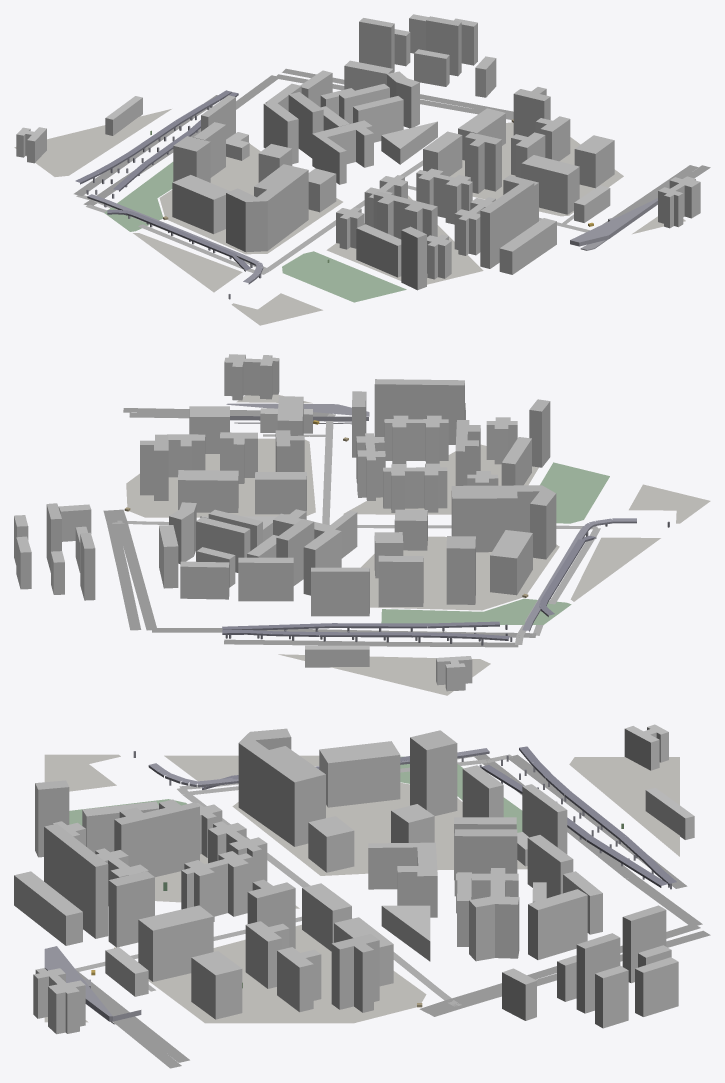
3 views of the same model, one above another, from view 1: azimuth 30°, elevation 25°; view 2: azimuth 150°, elevation 25°; view 3: azimuth 270°, elevation 25° (orthographic). The views are drawn at different scales.
Bounding box in the file's own units: 595 × 68.9 × 549.
